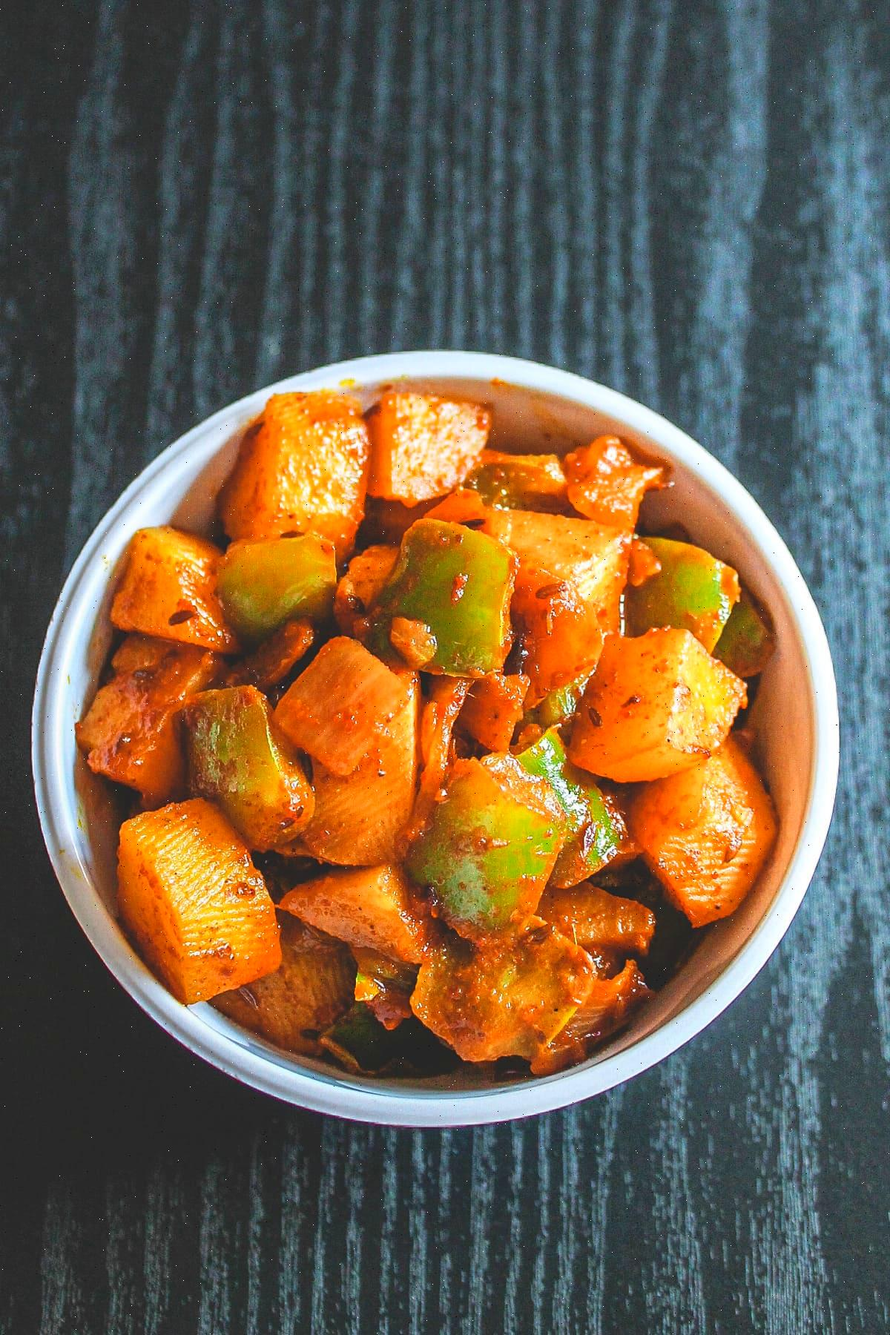aloo sabji: (120, 376, 799, 1026)
